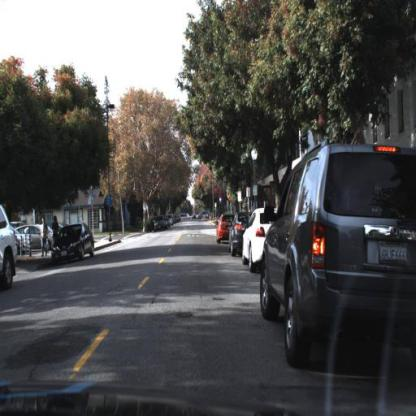car: (255, 135, 416, 385), (240, 202, 283, 272), (47, 220, 100, 270), (227, 204, 261, 259), (2, 201, 18, 295), (215, 210, 236, 248), (153, 214, 169, 235)
pedestrian: (39, 218, 51, 258), (52, 212, 59, 243), (53, 213, 59, 246)
